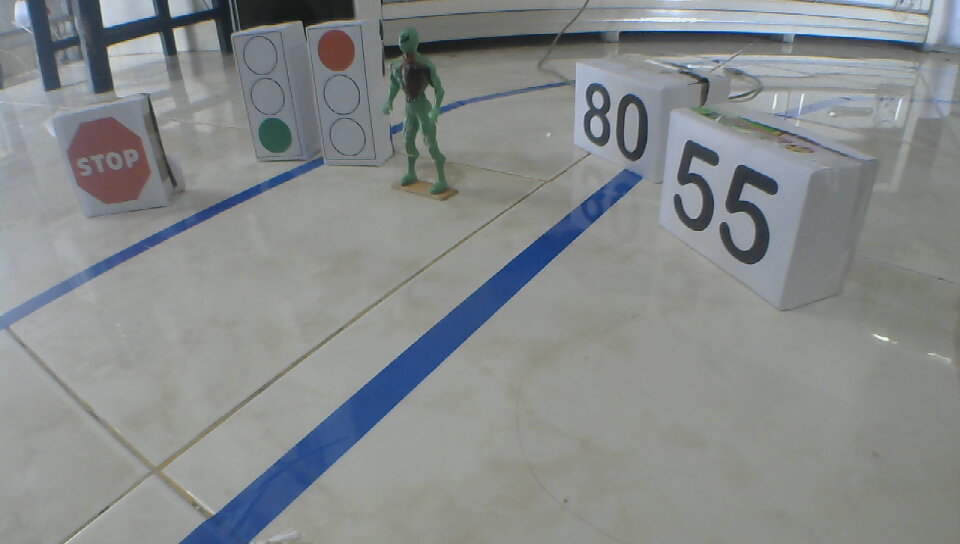Green Light: (239, 31, 291, 155)
Person: (379, 27, 451, 197)
Red Light: (315, 28, 369, 160)
Speed 55: (669, 139, 782, 269)
Speed 80: (580, 81, 650, 164)
Stop: (65, 117, 151, 206)
